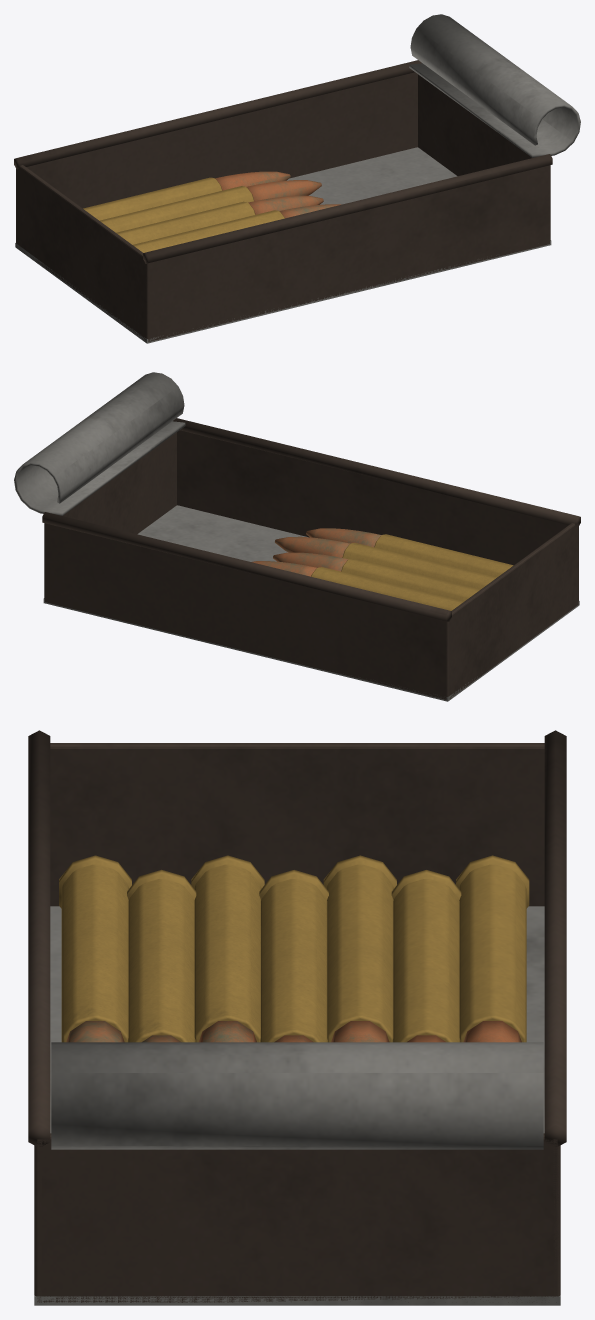
The model's file is prop_ammo_medium_01.gltf.
3 views of the same model, one above another, from view 1: azimuth 30°, elevation 25°; view 2: azimuth 150°, elevation 25°; view 3: azimuth 270°, elevation 25° (orthographic). The views are drawn at different scales.
Parts seen in each view (by area): view 1: prop_ammo_medium_01_item_atlas_01; view 2: prop_ammo_medium_01_item_atlas_01; view 3: prop_ammo_medium_01_item_atlas_01.
Part boxes in pixels (x1,y1,x2,y2): prop_ammo_medium_01_item_atlas_01: (14,14,580,343); prop_ammo_medium_01_item_atlas_01: (14,372,580,701); prop_ammo_medium_01_item_atlas_01: (28,730,566,1305).
Size of the model in its own units: 0.1192 by 0.0349 by 0.0634.
1 material, 1 textured.
